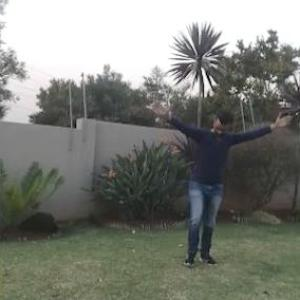takeoff: (149, 92, 279, 280)
